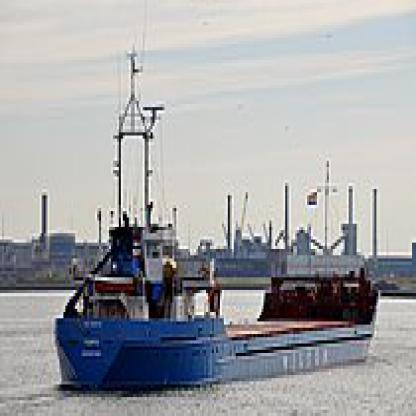Container Ship: (52, 40, 381, 391)
